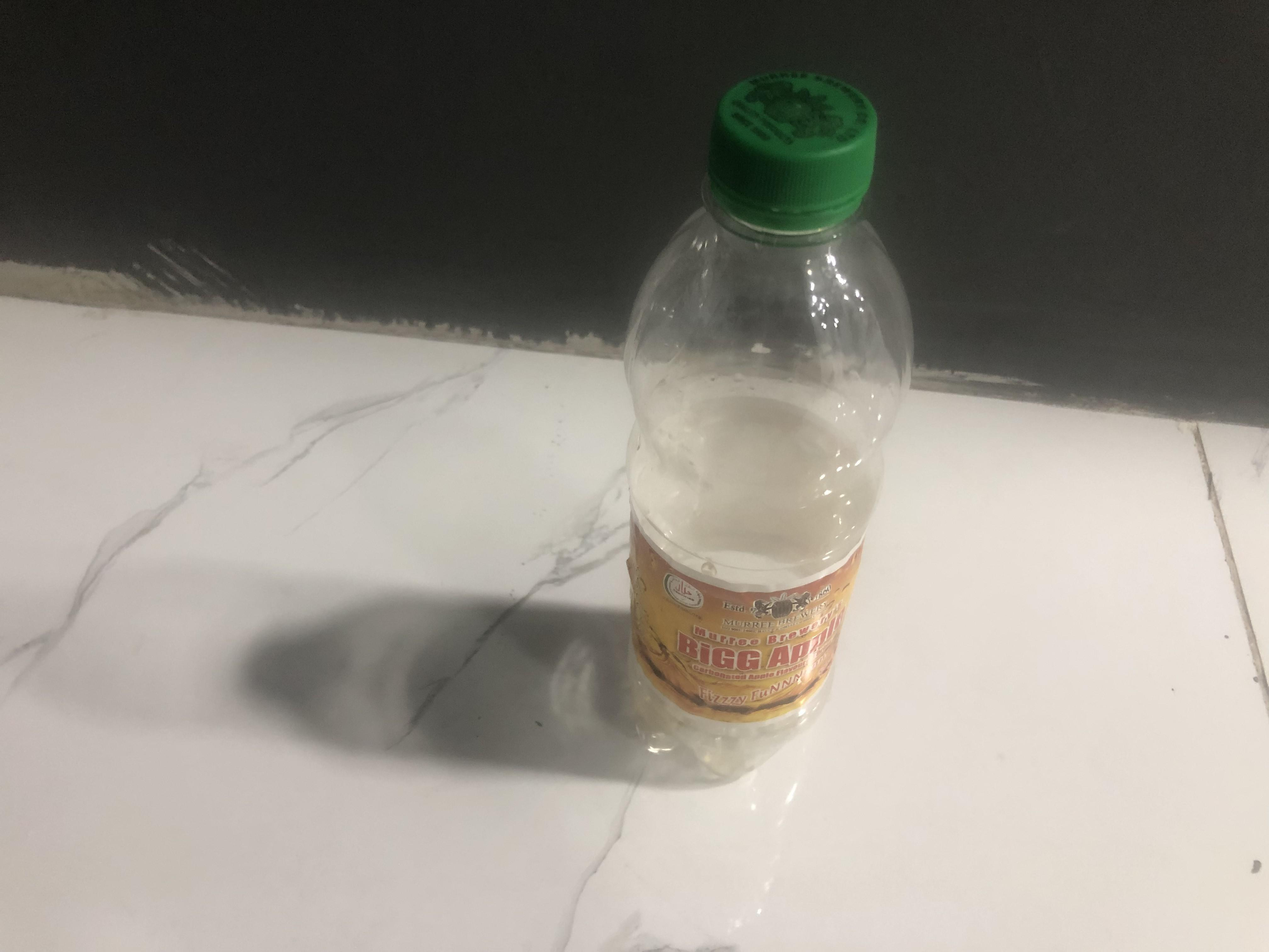bottle-plastic: (629, 68, 913, 786)
